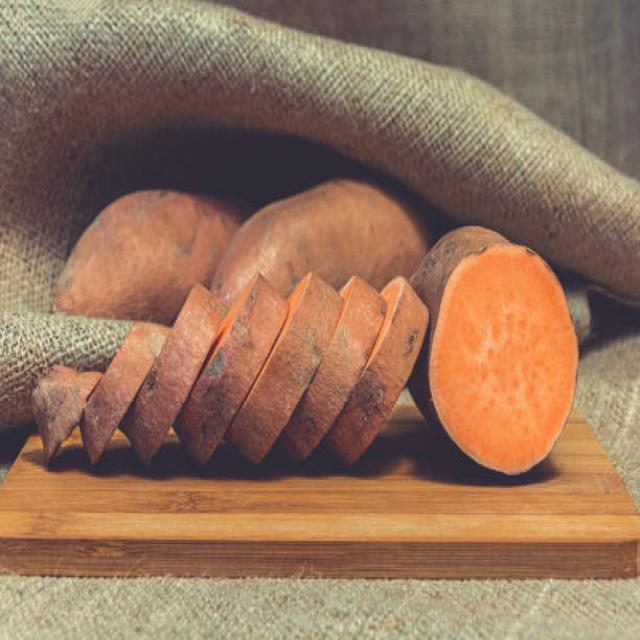Sweet Potato: (424, 225, 580, 475), (54, 186, 177, 314)
